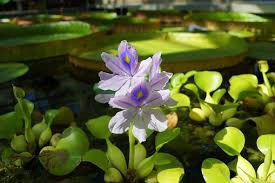water_hyacinth: (1, 40, 275, 183)
